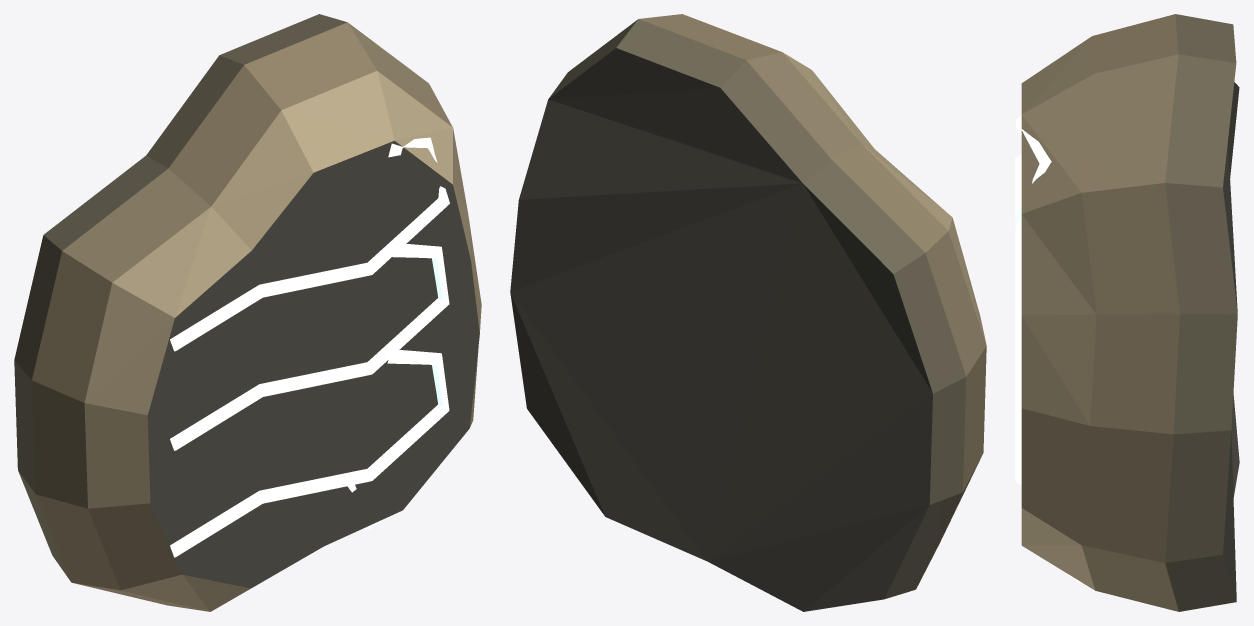
Rendered from FERNSTONE_WIND.hi.glb.
3 renders of one model, left to right at view 1: azimuth 30°, elevation 25°; view 2: azimuth 150°, elevation 25°; view 3: azimuth 270°, elevation 25°, orthographic. The views are drawn at different scales.
Parts seen in each view (by area): view 1: Body_Mesh; view 2: Body_Mesh; view 3: Body_Mesh.
Part boxes in pixels (<box>): Body_Mesh: <box>14,14,481,611</box>; Body_Mesh: <box>510,14,986,611</box>; Body_Mesh: <box>1015,14,1239,611</box>.
Size of the model in its own units: 0.2658 by 0.3157 by 0.1048.
Materials: 1 (1 with a texture image).
